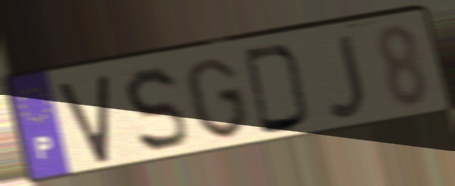8: (374, 22, 431, 113)
D: (240, 43, 313, 138)
G: (183, 54, 252, 142)
J: (324, 30, 370, 122)
S: (121, 64, 192, 156)
V: (56, 71, 112, 167)
